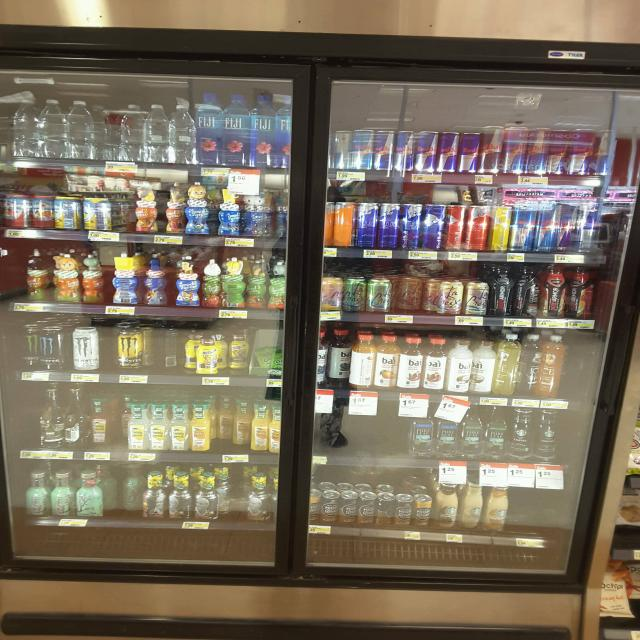unorganised: (25, 251, 200, 306), (131, 188, 285, 238), (210, 401, 255, 447), (101, 470, 145, 516), (143, 331, 185, 369), (394, 281, 438, 311), (329, 332, 353, 387), (98, 108, 122, 162), (352, 332, 376, 386), (218, 476, 248, 518), (524, 334, 542, 398), (442, 204, 465, 249), (222, 261, 243, 310), (221, 339, 248, 373), (91, 401, 107, 453), (116, 400, 130, 447), (186, 337, 198, 369)
